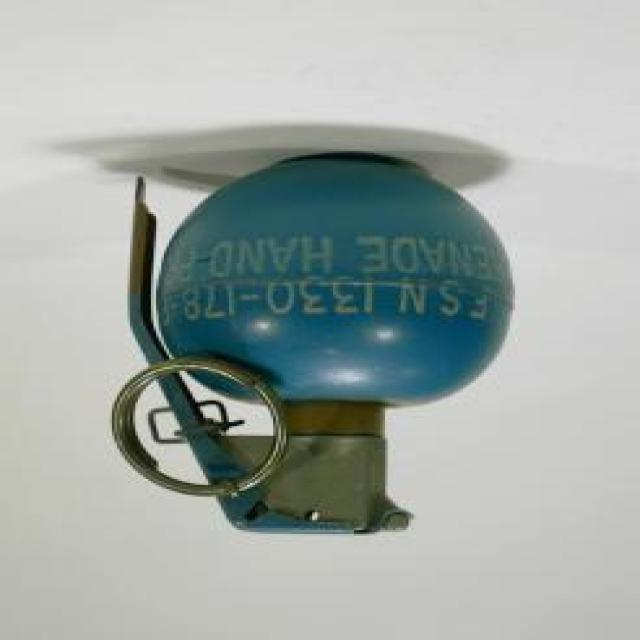grenade: (113, 156, 521, 535)
